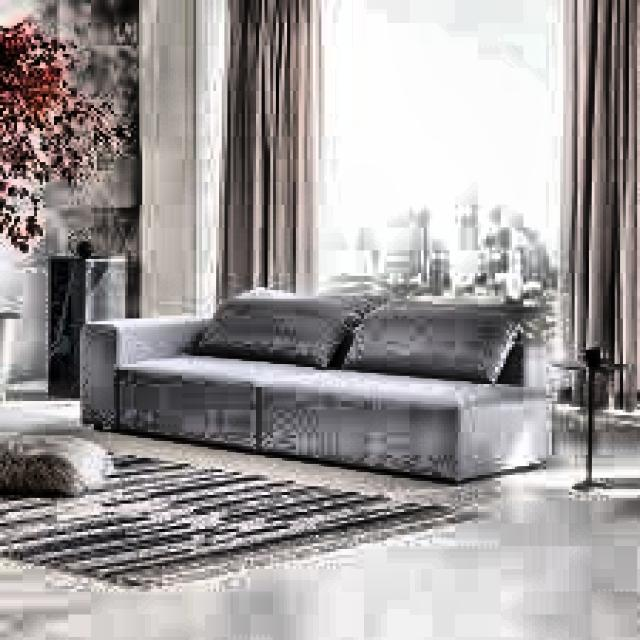sofa: (66, 288, 560, 487)
